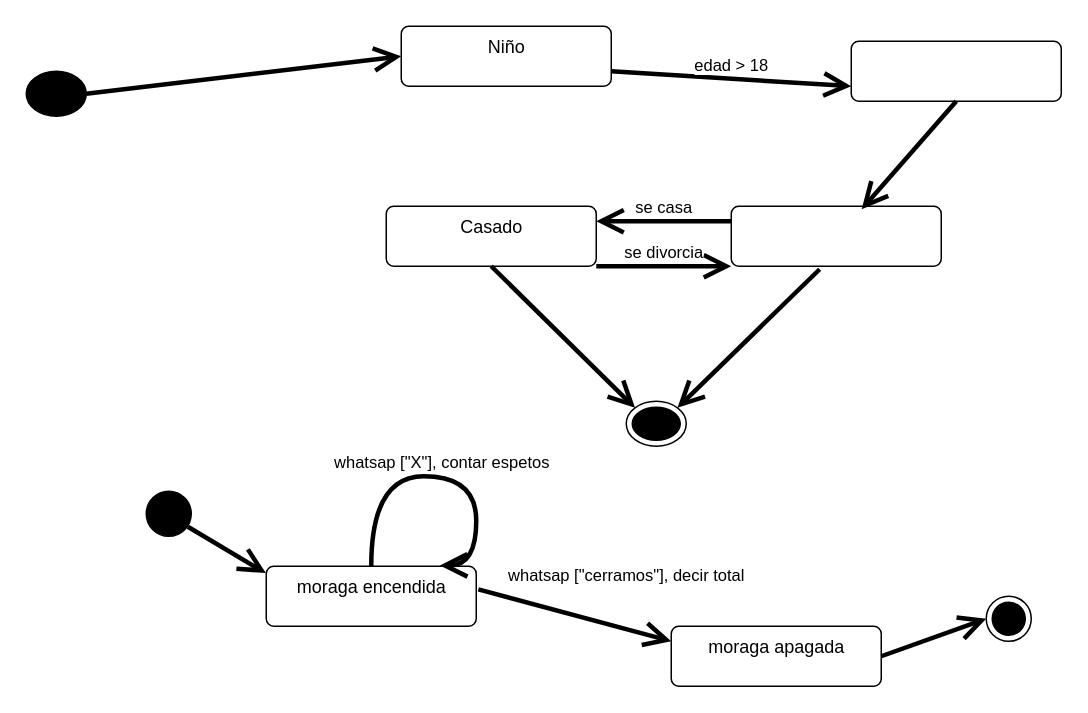
Image size: 1088x713. Some labels were removed from this diagram. Each missing label, with the box of its shape:
Adulto: (850, 40, 1061, 101)
Soltero: (730, 205, 941, 266)
